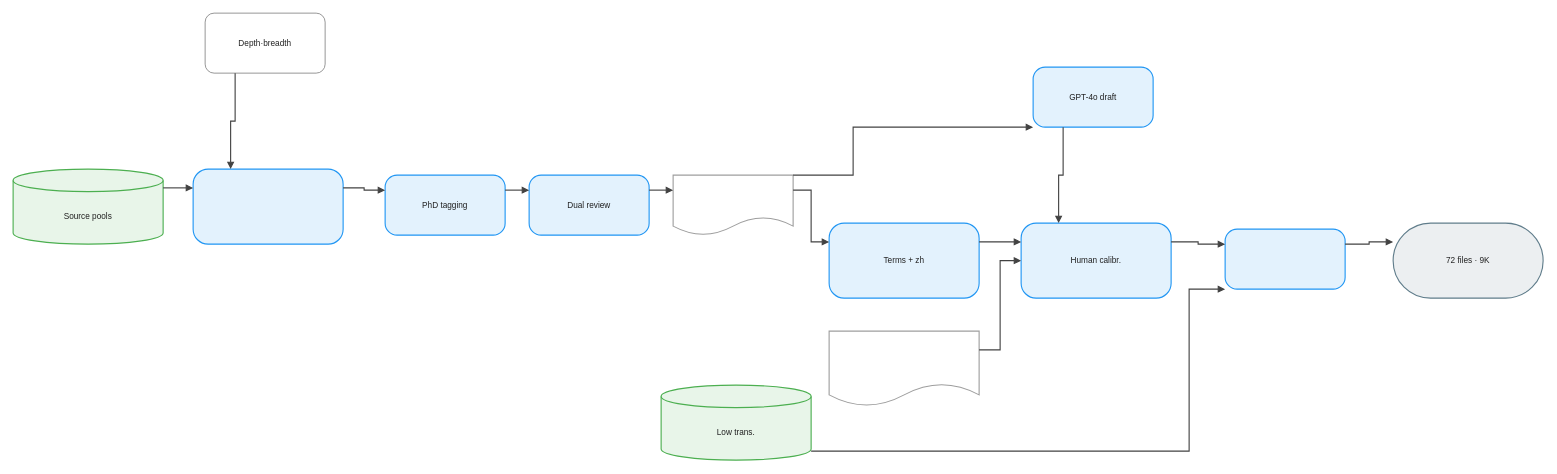
Some shapes in this 1557 by 474 pixel diagram are drawn without their labels. Each missing label, with the box of its shape:
18 versions: (1224, 228, 1345, 289)
4 levels × 125: (672, 174, 793, 235)
500 English Qs: (192, 168, 343, 244)
QA guidance: (828, 330, 979, 406)
